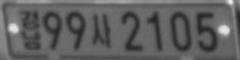0: (168, 10, 192, 51)
1: (145, 10, 166, 52)
2: (120, 11, 144, 51)
5: (195, 11, 218, 52)
9: (65, 10, 86, 50), (42, 10, 62, 50)
경남_V: (19, 9, 42, 50)
사: (90, 12, 112, 49)
